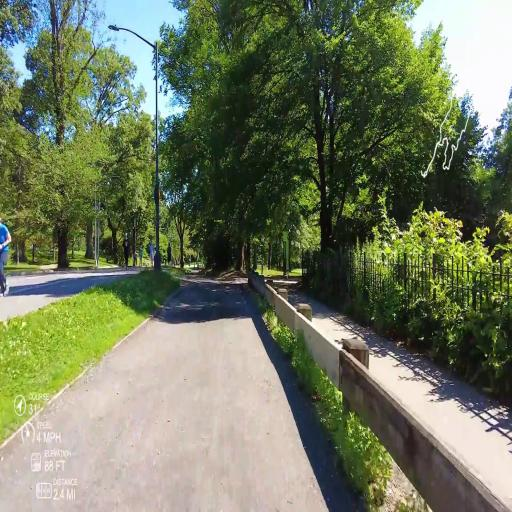Street_Light: (108, 20, 165, 272)
